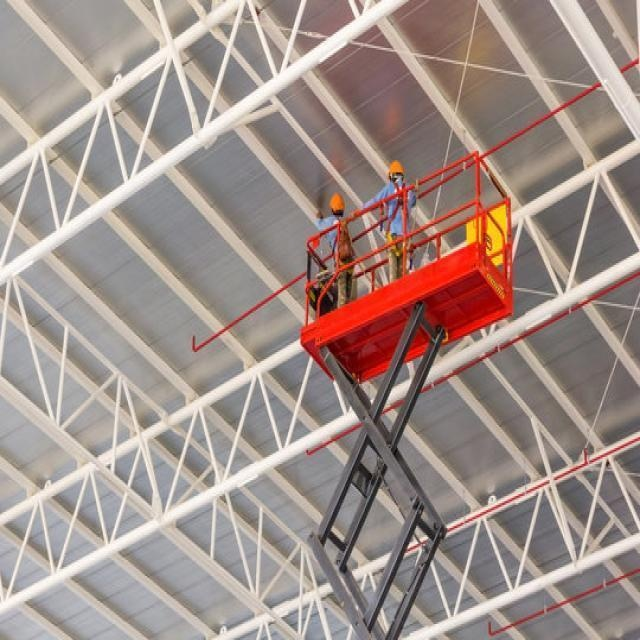Arnes_seguridad: (386, 181, 412, 257), (325, 213, 349, 275)
